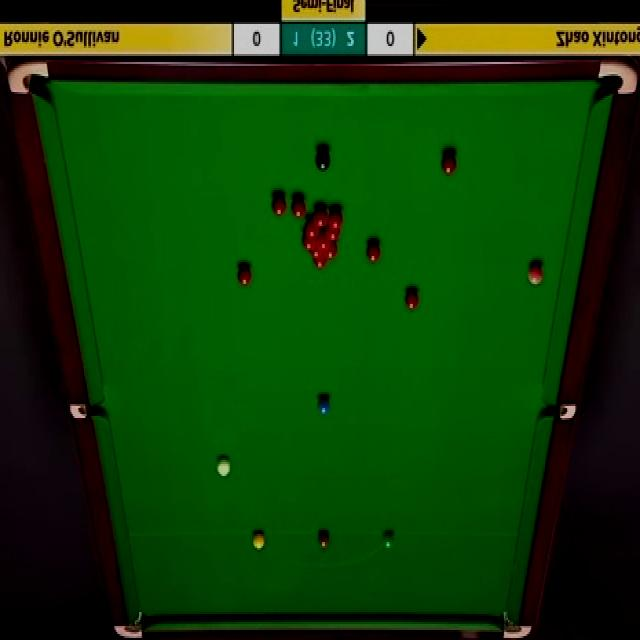black-ball: (315, 148, 331, 172)
blue-ball: (316, 394, 332, 417)
brown-ball: (318, 530, 330, 549)
green-ball: (382, 531, 394, 550)
pink-ball: (526, 260, 544, 288)
red-ball: (441, 150, 458, 176), (404, 285, 421, 310), (236, 263, 252, 287), (313, 206, 329, 229), (328, 207, 343, 231), (365, 239, 380, 263), (273, 197, 289, 219), (291, 194, 305, 217), (304, 219, 319, 238), (322, 243, 338, 259), (324, 227, 340, 241), (316, 236, 332, 250), (302, 238, 316, 251), (312, 259, 328, 270), (309, 250, 325, 259)
white-ball: (215, 455, 230, 478)
yellow-ball: (252, 529, 264, 552)
